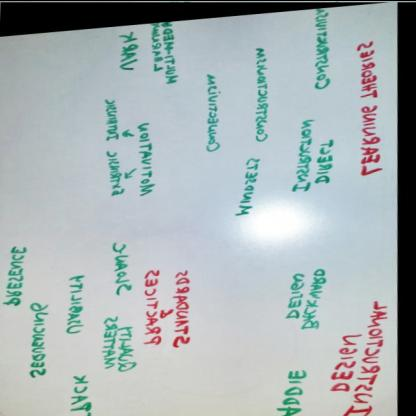Handwritten text: (233, 35, 277, 225), (343, 36, 392, 182), (342, 298, 399, 416), (91, 92, 131, 204), (274, 261, 334, 333), (24, 297, 65, 387), (325, 314, 368, 397), (194, 59, 229, 154), (100, 309, 147, 378), (301, 9, 339, 91), (170, 265, 205, 351), (145, 25, 185, 85), (135, 112, 163, 196), (288, 112, 315, 199), (146, 254, 169, 348), (276, 363, 316, 415), (66, 270, 95, 337), (107, 235, 138, 297), (64, 366, 105, 412), (313, 129, 342, 193), (8, 241, 30, 304), (114, 28, 144, 74)
Whiteboard: (0, 0, 401, 416)
